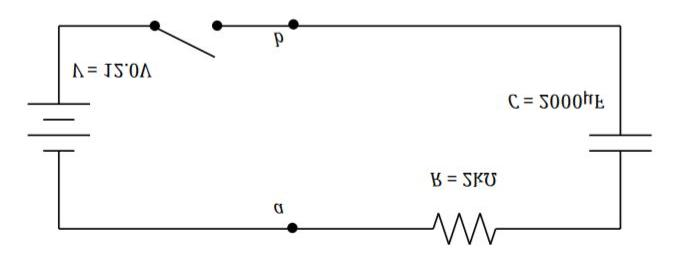Capacitor: (574, 115, 660, 177)
